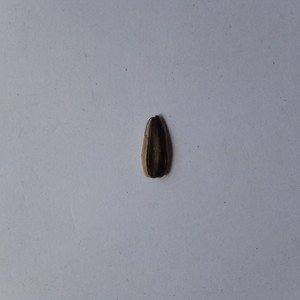girasol: (140, 113, 176, 180)
